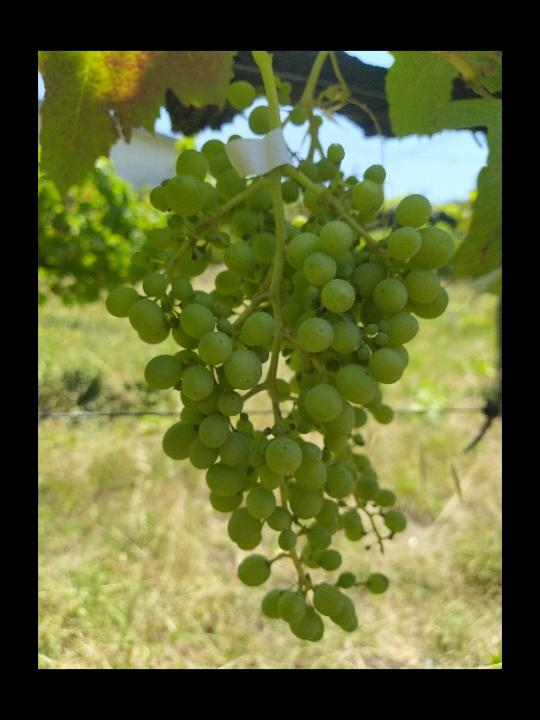grape: (97, 106, 454, 645)
